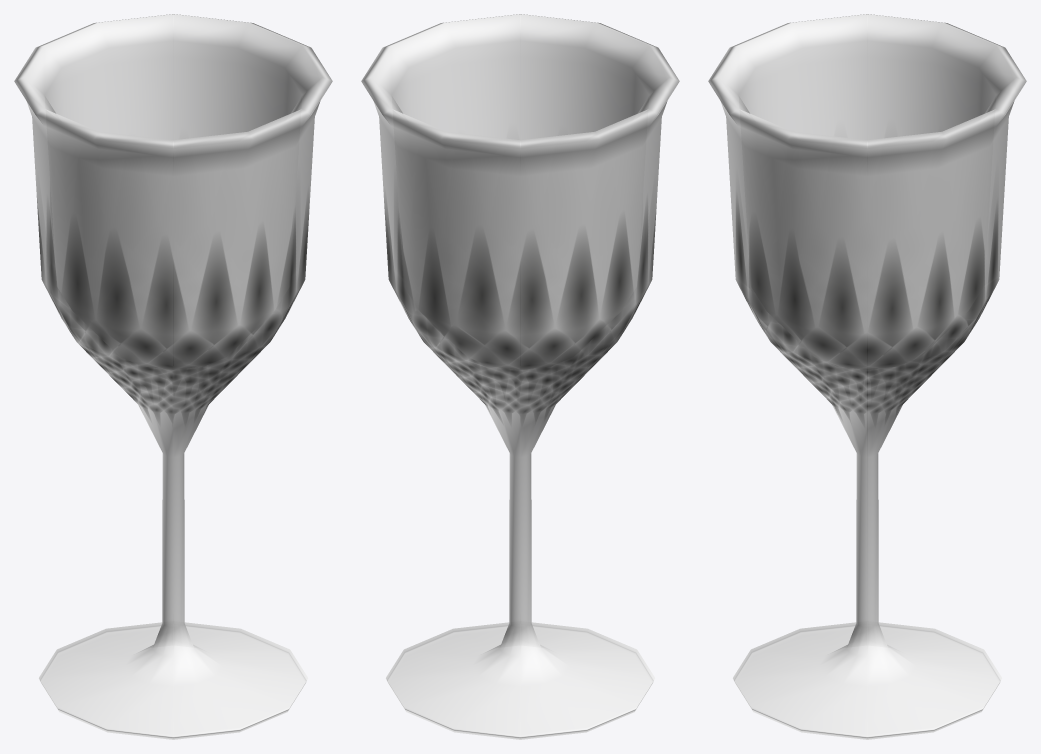
File: Copa.fbx
3 renders of one model, left to right at view 1: azimuth 30°, elevation 25°; view 2: azimuth 150°, elevation 25°; view 3: azimuth 270°, elevation 25°, orthographic.
Visible parts, largest first — view 1: pCylinder1; view 2: pCylinder1; view 3: pCylinder1.
Boxes of the visible parts, x1,y1,x2,y2 form: pCylinder1: (14,14,332,739); pCylinder1: (361,14,679,739); pCylinder1: (708,14,1026,739).
Bounding box in the file's own units: 7.74 × 16.26 × 7.74.
